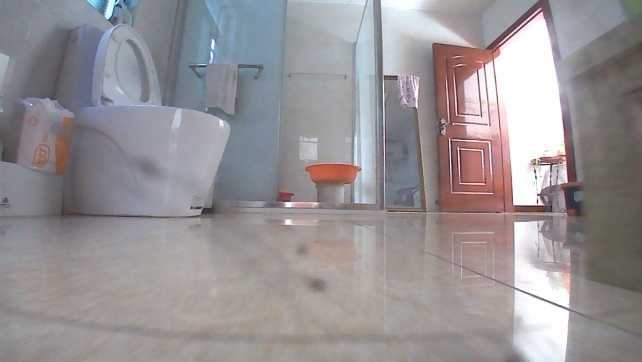door_anno: (426, 39, 518, 213)
toilet: (50, 20, 233, 218)
